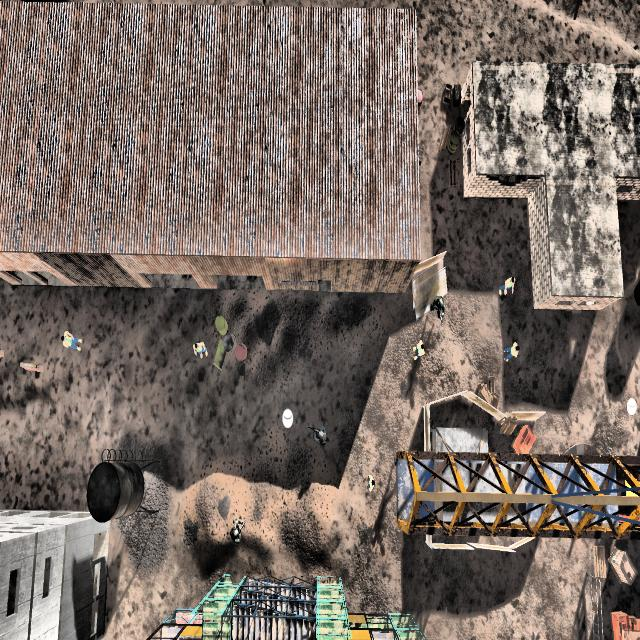bad: (221, 513, 250, 553), (308, 419, 334, 454), (428, 287, 450, 328)
good: (56, 316, 87, 367), (494, 333, 524, 372), (496, 265, 518, 307), (408, 333, 430, 371), (184, 335, 208, 366), (362, 462, 379, 498)
